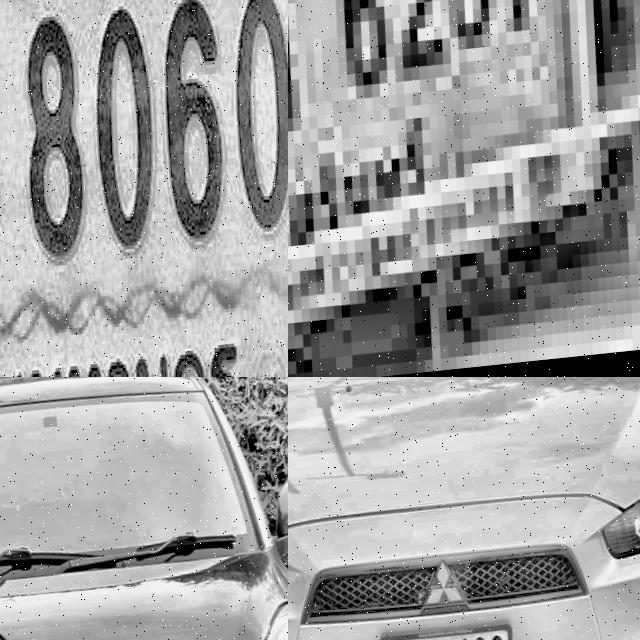license-plate: (288, 0, 640, 377), (0, 0, 288, 377), (375, 611, 526, 640)
